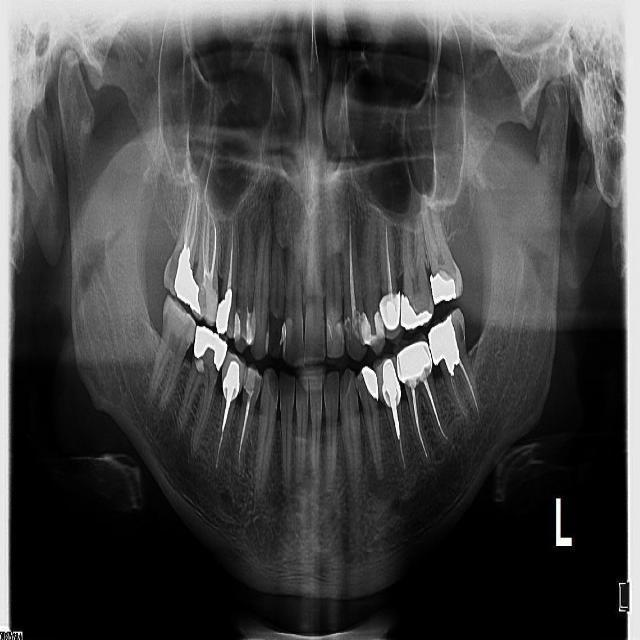Crown: (394, 332, 433, 385), (194, 325, 227, 373), (374, 354, 402, 407), (379, 290, 404, 343), (222, 350, 245, 402)
Filling: (428, 312, 459, 375), (174, 241, 194, 304), (400, 293, 431, 332), (344, 310, 366, 361), (359, 312, 384, 353), (430, 272, 456, 304), (216, 289, 232, 335), (203, 278, 218, 321), (361, 367, 379, 400), (280, 318, 293, 361), (329, 321, 343, 358), (189, 280, 200, 314), (244, 365, 257, 393), (245, 308, 255, 343), (195, 358, 204, 374)
Root Canal Treatment: (425, 378, 449, 438), (457, 359, 480, 415), (214, 400, 232, 468), (411, 385, 427, 458), (238, 392, 252, 461), (349, 222, 357, 312), (385, 224, 394, 295), (209, 220, 216, 275), (226, 226, 232, 290), (186, 199, 194, 245), (185, 188, 191, 243), (189, 199, 195, 245), (399, 436, 405, 471), (206, 221, 209, 270), (202, 214, 204, 272)
